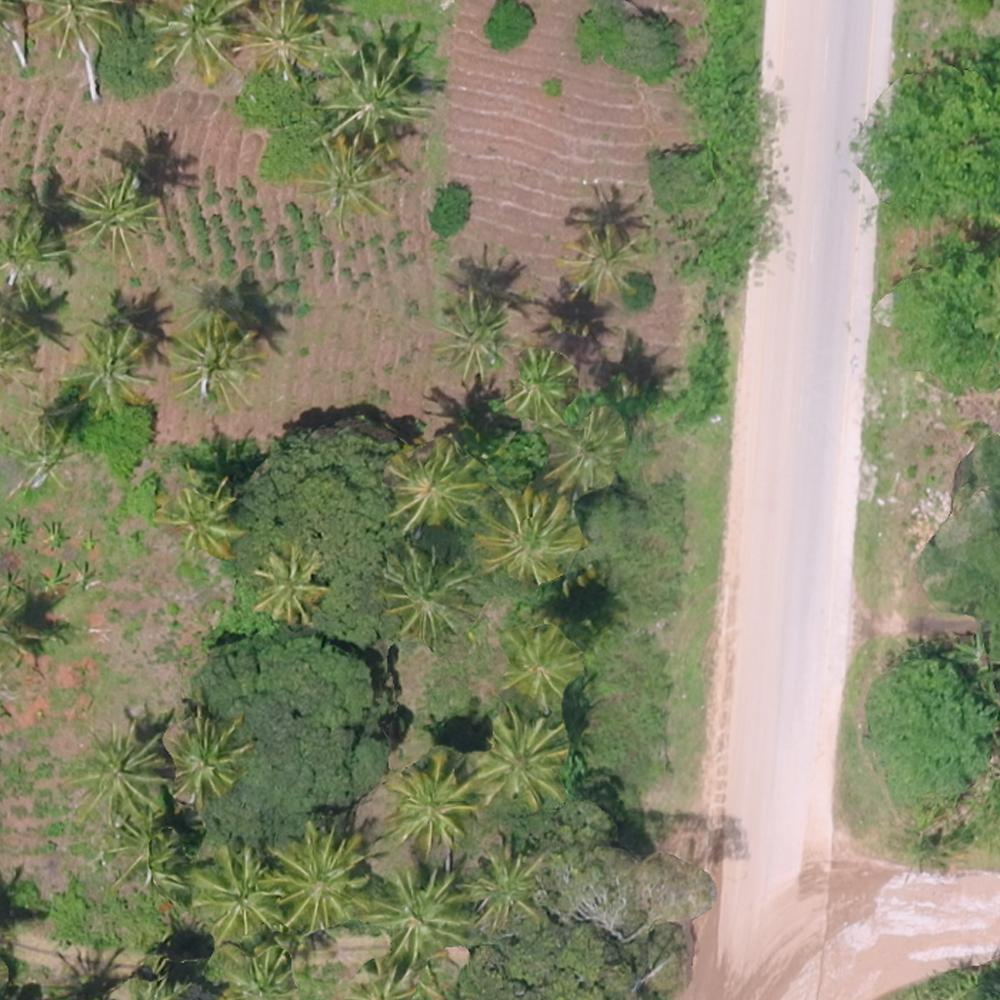Palm: (321, 43, 432, 146), (268, 826, 374, 932), (482, 484, 584, 580), (479, 718, 575, 814), (383, 440, 479, 532), (167, 321, 260, 415), (381, 550, 472, 646), (66, 169, 160, 261), (302, 147, 397, 236), (368, 869, 468, 951), (192, 848, 283, 936), (144, 1, 237, 86), (75, 729, 160, 818), (237, 4, 331, 84), (386, 761, 474, 846), (151, 477, 242, 557), (542, 401, 628, 485), (166, 712, 247, 800), (500, 622, 582, 708), (463, 847, 546, 931), (437, 291, 515, 376), (70, 331, 152, 410), (501, 345, 576, 423), (570, 227, 645, 299), (250, 551, 321, 623)
